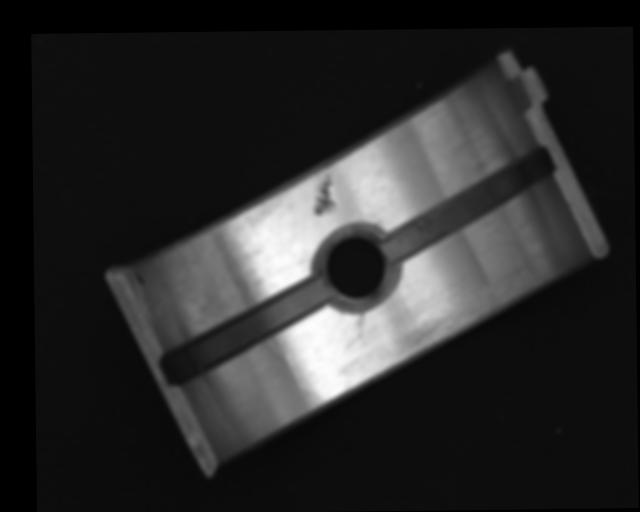blot: (129, 269, 146, 285)
bruise: (312, 174, 334, 216)
gap: (380, 148, 553, 262), (162, 279, 330, 384)
hole: (314, 226, 399, 307)
nick: (284, 350, 325, 406), (355, 312, 364, 339)
scratch: (393, 269, 544, 361)
